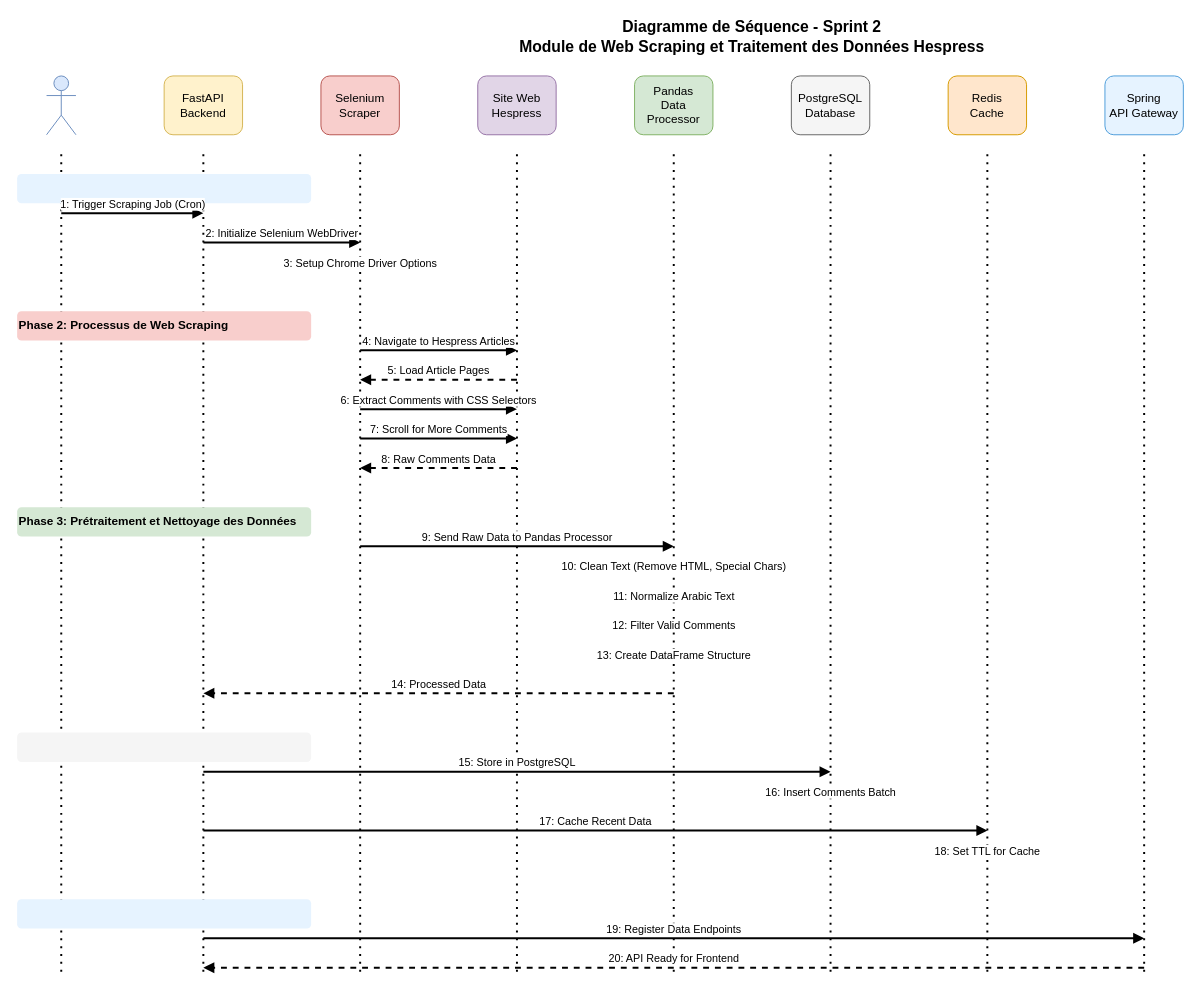
The diagram is 1201 pixels wide and 996 high, and some of its shapes have lost their labels. The centre of each missing label's shape, as x and y in pixels:
"Cron Scheduler" goes at [61,105].
"Phase 1: Déclenchement Automatique du Scraping" goes at [164,188].
"Phase 4: Stockage des Données" goes at [164,746].
"Phase 5: API de Récupération des Données" goes at [164,913].
